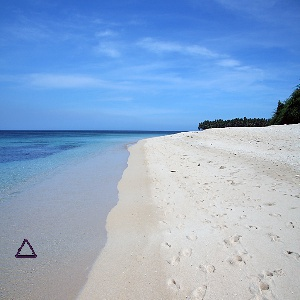triangle: (12, 236, 39, 261)
